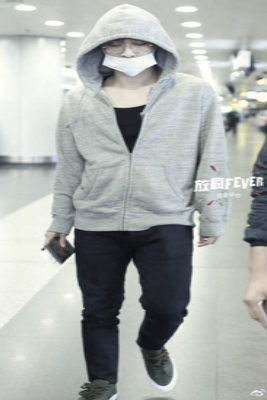mask_weared_incorrect: (100, 40, 158, 77)
